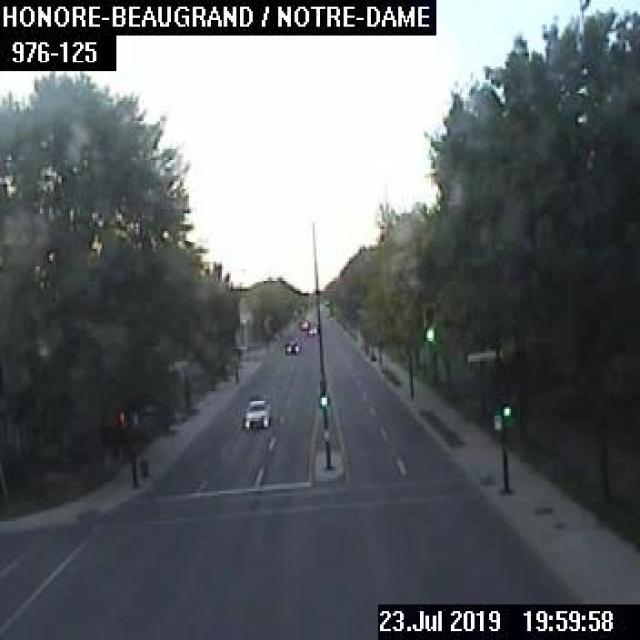vehicle: (242, 396, 269, 426), (284, 338, 298, 353), (306, 324, 316, 336), (298, 318, 308, 328)
